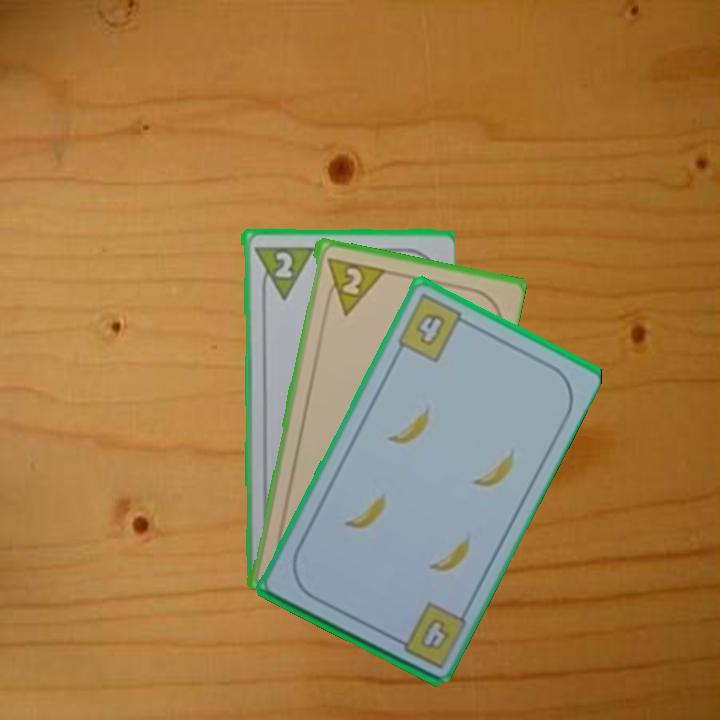2p: (322, 253, 385, 317), (250, 242, 314, 302)
4b: (393, 290, 473, 365), (420, 617, 449, 649)
